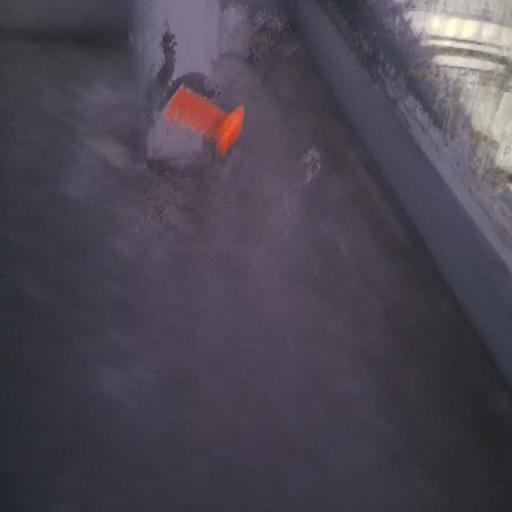mallet: (169, 88, 243, 145)
